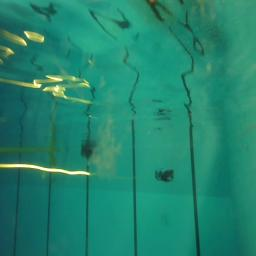Side: (154, 168, 176, 182), (80, 142, 96, 158)
